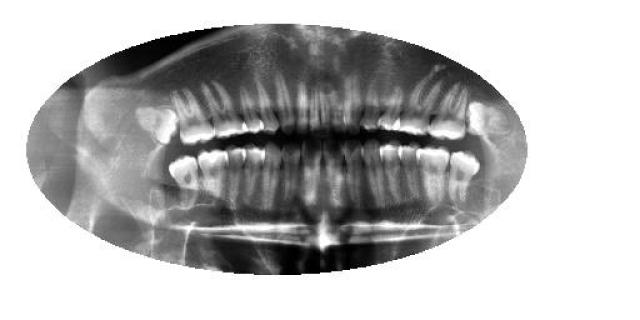Restorations: (131, 104, 180, 144), (465, 101, 509, 138)
